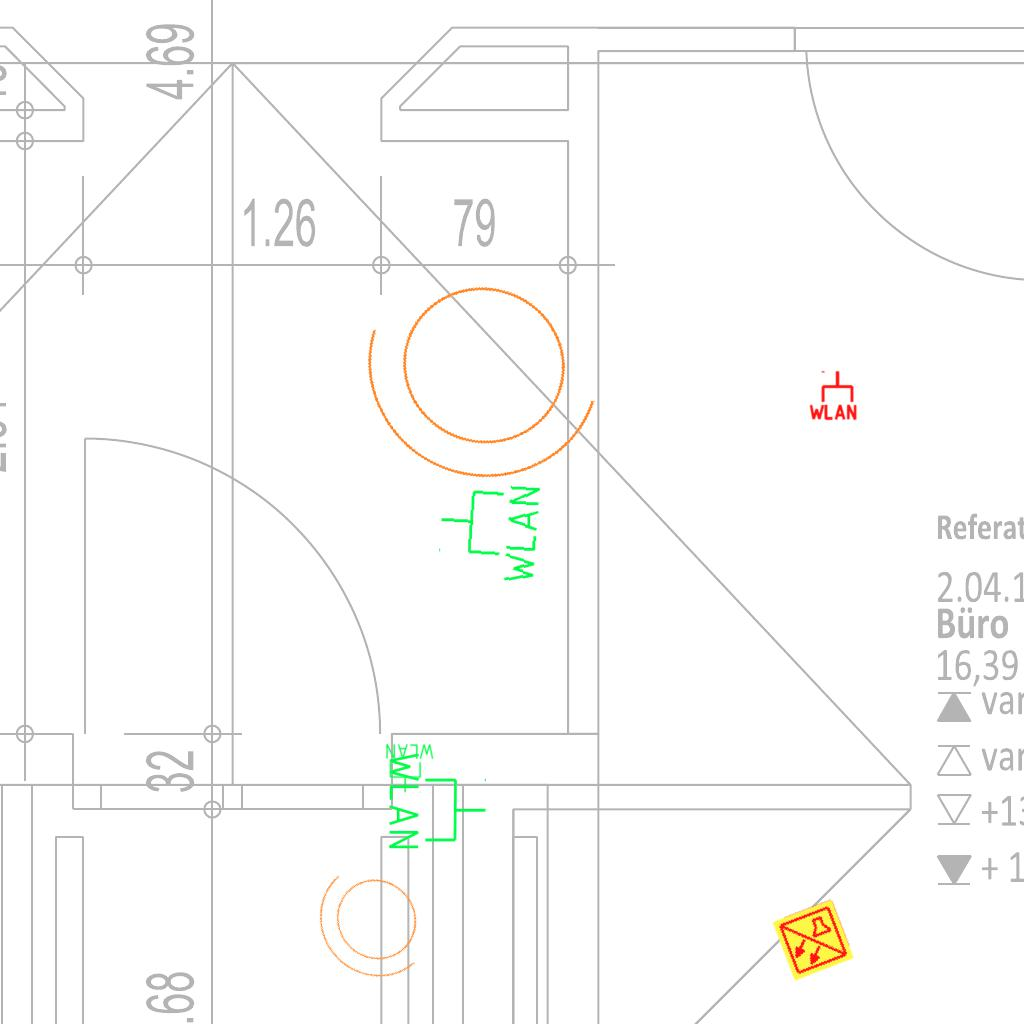OKW_Multisensormelder_(Kombination_optischer_Rauch-Kahlenmonoxid_Waerme-Melder): (770, 897, 856, 983)
Scheinwerfer_fuer_Alarmbeleuchtung: (326, 228, 648, 525), (289, 838, 461, 1012)
WLAN: (433, 476, 545, 589), (385, 748, 489, 853), (383, 741, 437, 795), (807, 369, 859, 421)
